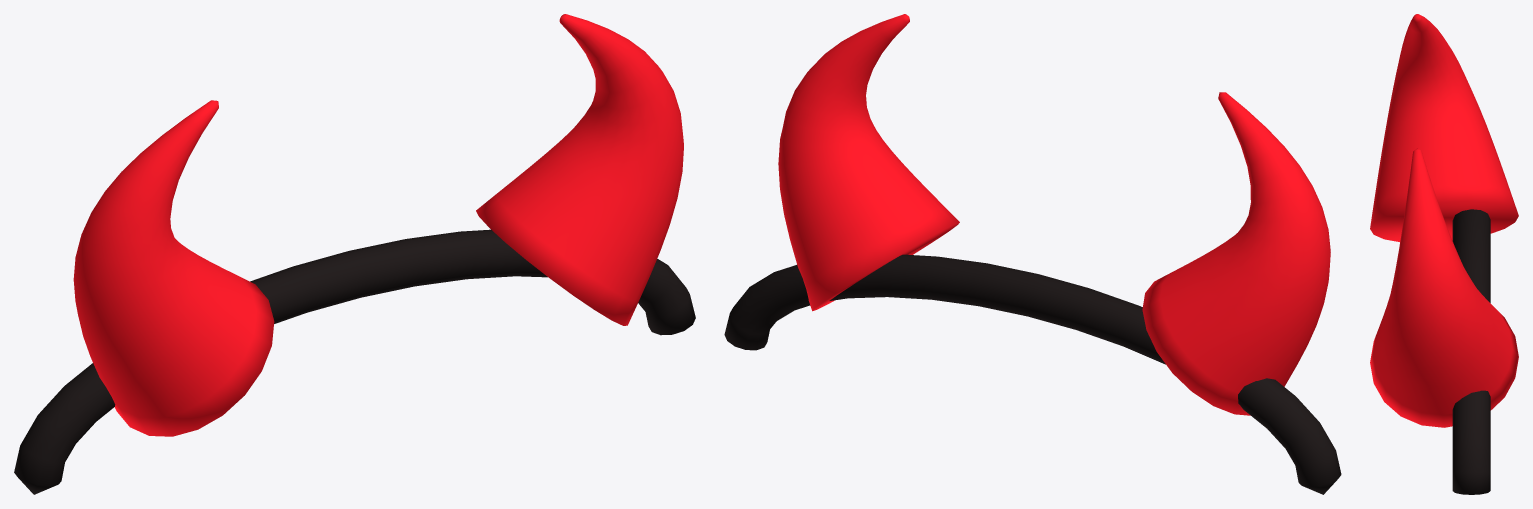
Rendered from cuernos.glb.
The picture shows the model from 3 angles, left to right: view 1: azimuth 30°, elevation 25°; view 2: azimuth 150°, elevation 25°; view 3: azimuth 270°, elevation 25°; orthographic projection. The views are drawn at different scales.
Visible parts, largest first — view 1: cuernos; view 2: cuernos; view 3: cuernos.
Part boxes in pixels (box(x1,y1,x2,y2)): cuernos: box(14, 14, 695, 494); cuernos: box(724, 14, 1341, 494); cuernos: box(1370, 14, 1518, 494).
Size of the model in its own units: 1.13 by 0.6135 by 0.2749.
